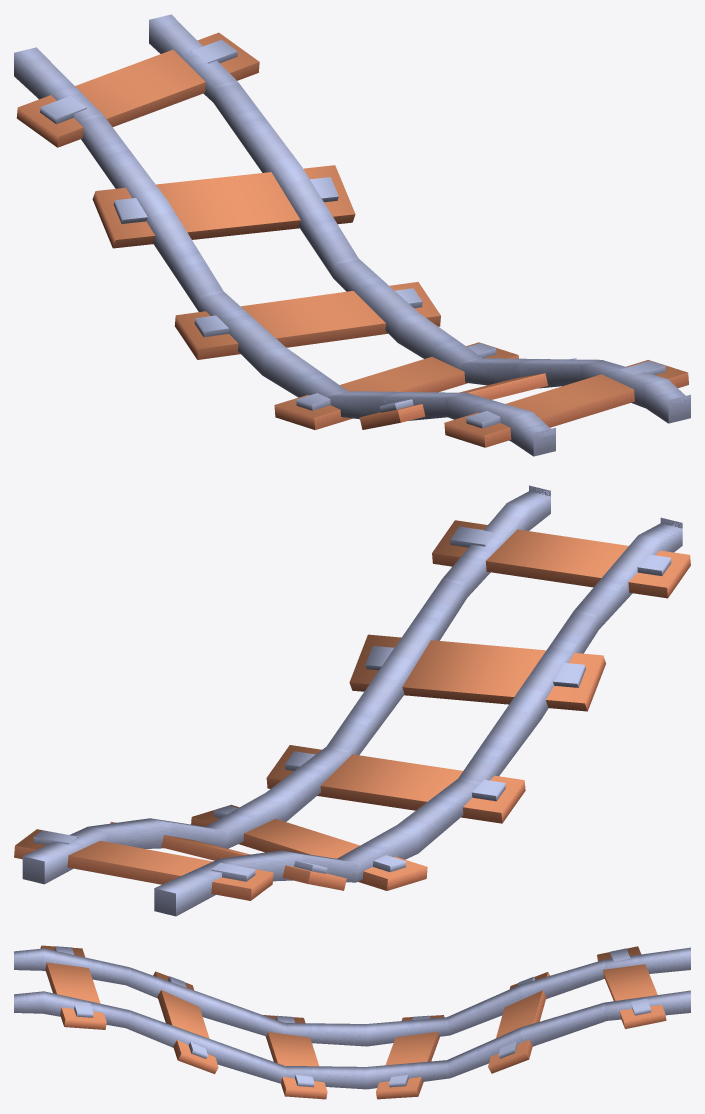
File: railroad-damaged-straight-bump-down.glb
The picture shows the model from 3 angles, top to bottom: view 1: azimuth 30°, elevation 25°; view 2: azimuth 150°, elevation 25°; view 3: azimuth 270°, elevation 25°; orthographic projection. The views are drawn at different scales.
Parts seen in each view (by area): view 1: railroad-damaged-straight-bump-down; view 2: railroad-damaged-straight-bump-down; view 3: railroad-damaged-straight-bump-down.
Part boxes in pixels (box(x1,y1,x2,y2)): railroad-damaged-straight-bump-down: box(14, 14, 690, 456); railroad-damaged-straight-bump-down: box(14, 485, 690, 916); railroad-damaged-straight-bump-down: box(14, 945, 690, 1099).
Bounding box in the file's own units: 1.03 × 0.606 × 4.
1 material, 1 textured.
